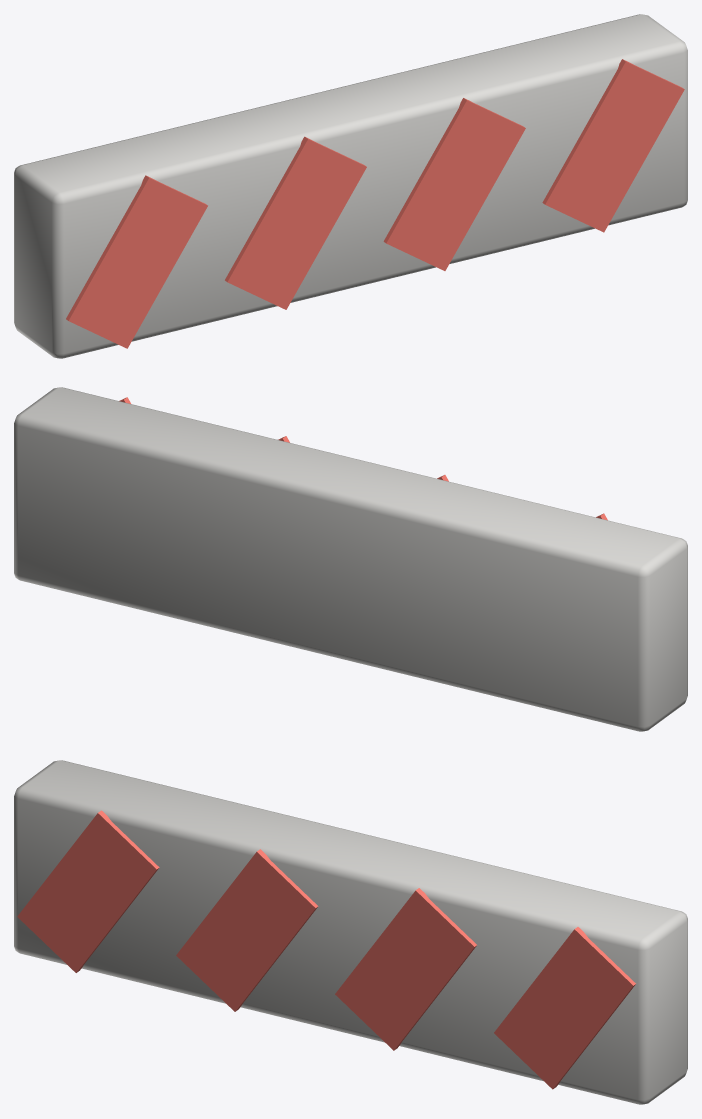
The model's file is Prop_Barrier.fbx.
3 views of the same model, one above another, from view 1: azimuth 30°, elevation 25°; view 2: azimuth 150°, elevation 25°; view 3: azimuth 330°, elevation 25° (orthographic).
Parts seen in each view (by area): view 1: Prop_Barrier; view 2: Prop_Barrier; view 3: Prop_Barrier.
Part boxes in pixels (bbox=[...]): Prop_Barrier: bbox=[14, 14, 687, 358]; Prop_Barrier: bbox=[14, 387, 687, 731]; Prop_Barrier: bbox=[14, 760, 687, 1104].
Bounding box in the file's own units: 4 × 1 × 0.53.
